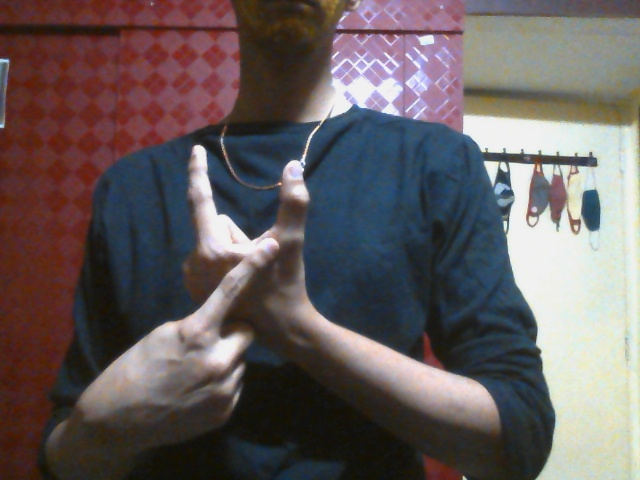Y: (153, 145, 308, 452)
